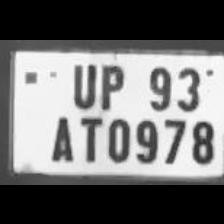0: (102, 112, 131, 162)
3: (172, 61, 202, 109)
7: (159, 110, 186, 166)
8: (186, 113, 216, 165)
9: (143, 61, 173, 109), (132, 112, 158, 162)
A: (44, 110, 76, 162)
P: (95, 60, 127, 110)
T: (74, 110, 104, 162)
U: (67, 58, 97, 108)
